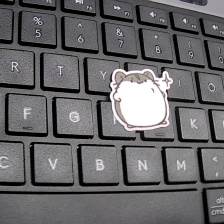mouse: (109, 67, 175, 133)
